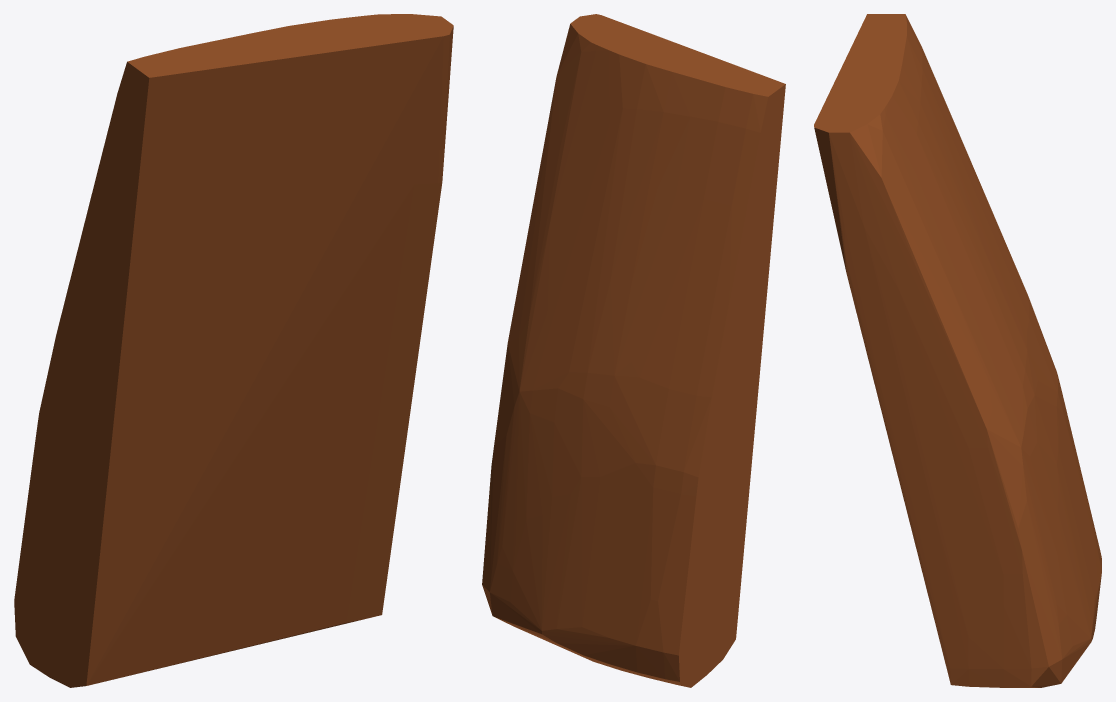
Rendered from left-shoulder-pitch-0_part_67.obj.
The picture shows the model from 3 angles, left to right: view 1: azimuth 30°, elevation 25°; view 2: azimuth 150°, elevation 25°; view 3: azimuth 270°, elevation 25°; orthographic projection. The views are drawn at different scales.
Size of the model in its own units: 0.0167 by 0.0381 by 0.0171.
